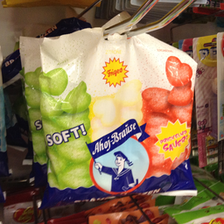candy: (25, 31, 197, 202)
